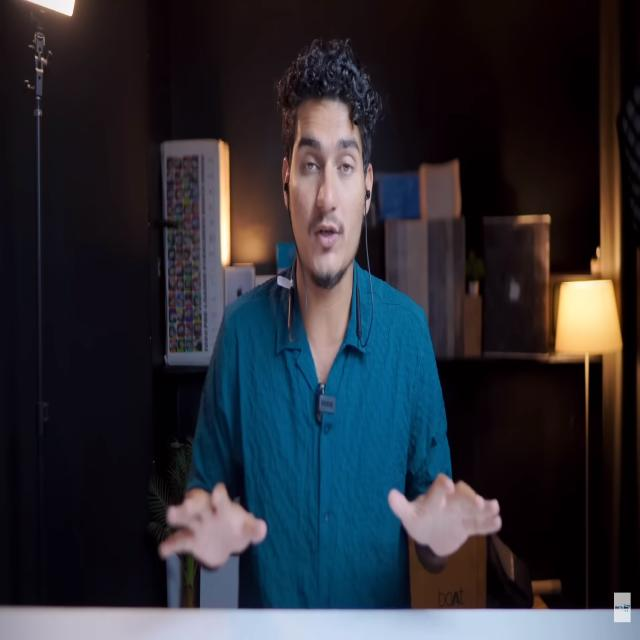Neckband: (282, 180, 373, 348)
